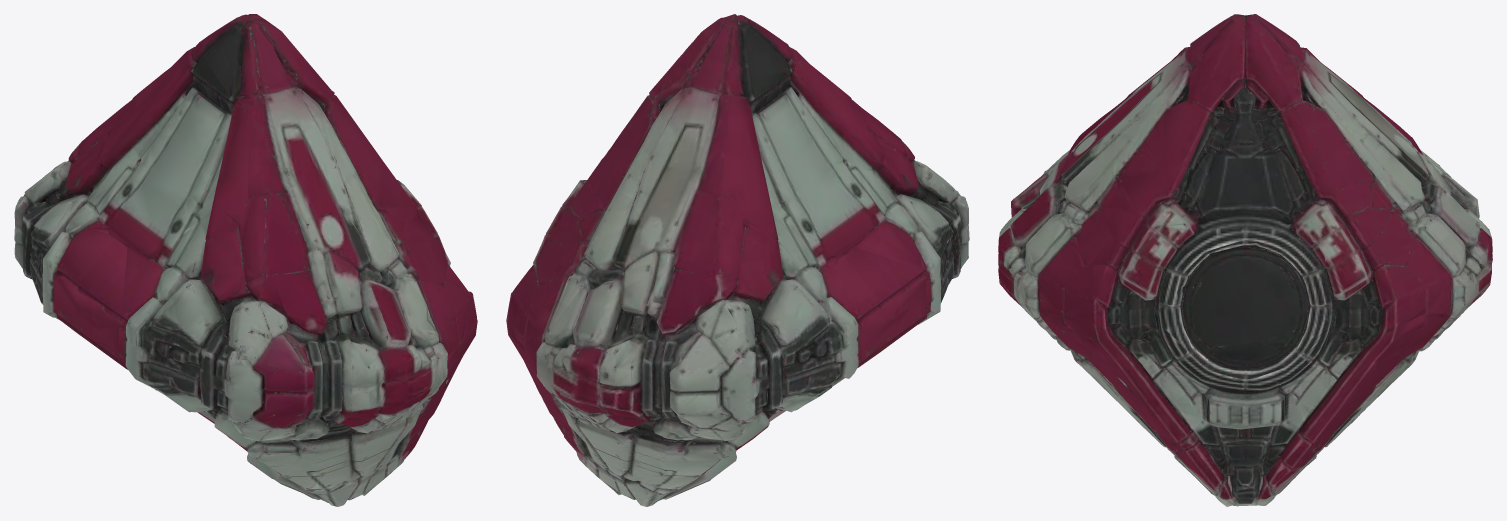
Rendered from arc-sunder-lean.glb.
The picture shows the model from 3 angles, left to right: view 1: azimuth 30°, elevation 25°; view 2: azimuth 150°, elevation 25°; view 3: azimuth 270°, elevation 25°; orthographic projection. The views are drawn at different scales.
Parts seen in each view (by area): view 1: chassis; view 2: chassis; view 3: chassis.
Part boxes in pixels (bbox=[...]): chassis: bbox=[14, 14, 477, 506]; chassis: bbox=[506, 14, 969, 506]; chassis: bbox=[998, 14, 1492, 506].
Bounding box in the file's own units: 0.6759 × 0.9884 × 0.9891.
1 material, 1 textured.
